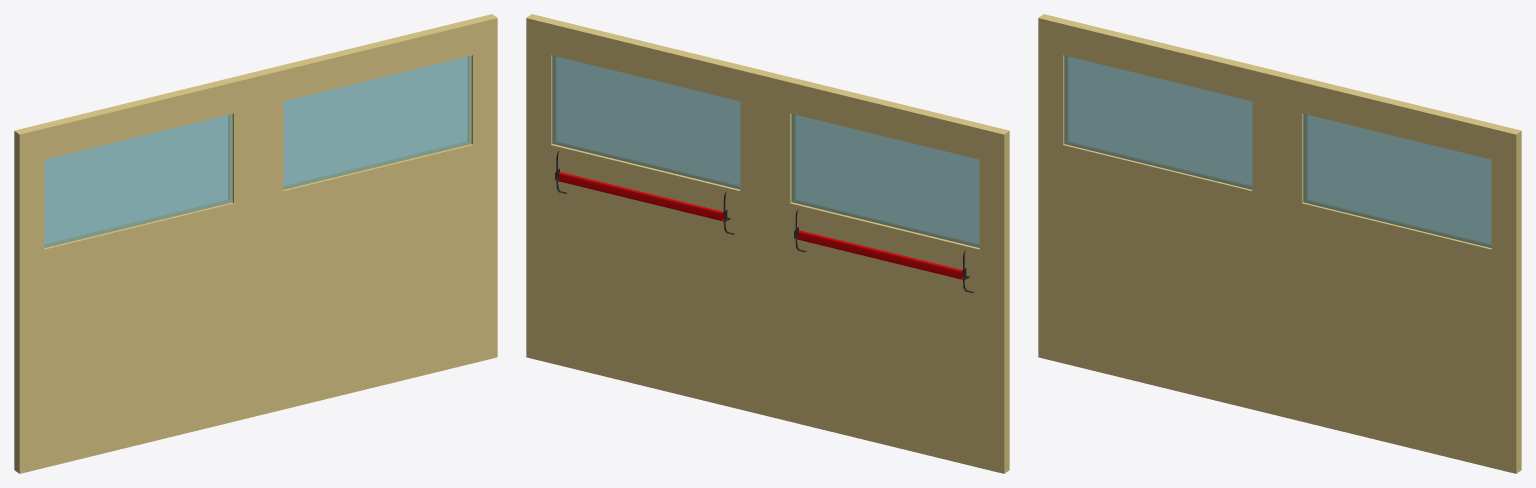
File: puertas_salida.fbx
The picture shows the model from 3 angles, left to right: view 1: azimuth 30°, elevation 25°; view 2: azimuth 150°, elevation 25°; view 3: azimuth 330°, elevation 25°; orthographic projection.
Parts seen in each view (by area): view 1: Puerta_salida_derch, Puerta_salida_derch.001; view 2: Puerta_salida_derch, Puerta_salida_derch.001; view 3: Puerta_salida_derch.001, Puerta_salida_derch.
Part boxes in pixels (x1,y1,x2,y2): Puerta_salida_derch: (14, 72, 258, 473); Puerta_salida_derch.001: (253, 14, 497, 415); Puerta_salida_derch: (765, 72, 1009, 473); Puerta_salida_derch.001: (526, 14, 770, 415); Puerta_salida_derch.001: (1277, 72, 1521, 473); Puerta_salida_derch: (1038, 14, 1282, 415).
Size of the model in its own units: 1389 by 942 by 64.44.
